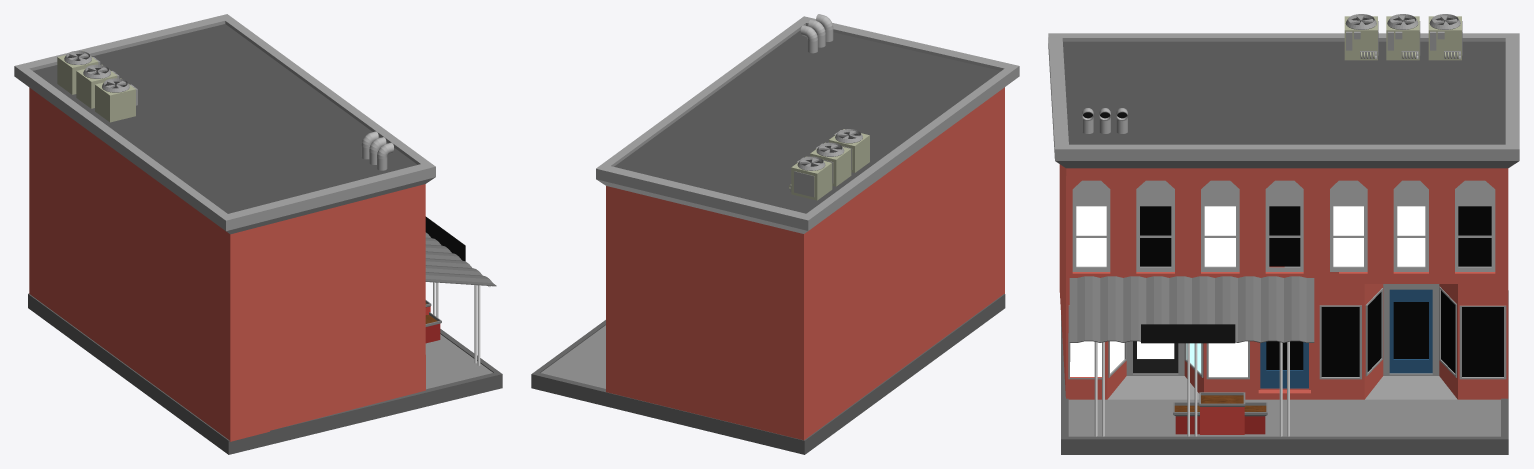
The model's file is store.glb.
3 views of the same model, side by side, from view 1: azimuth 30°, elevation 25°; view 2: azimuth 150°, elevation 25°; view 3: azimuth 270°, elevation 25° (orthographic). The views are drawn at different scales.
Parts seen in each view (by area): view 1: Cube, Cube.001, Plane, Plane.001, Cube.005, Cube.003, Cube.004, Cylinder.004, Plane.002, Cylinder.002, Cube.002; view 2: Cube, Cube.001, Plane, Cube.003, Cube.004, Cube.005, Cylinder.004; view 3: Cube, Plane.001, Plane, Cube.001, Cube.002, Plane.002, Cube.004, Cube.003, Cube.005, Cylinder.004, Cylinder.001, Cylinder.002 (+1 smaller).
Part boxes in pixels (x1,y1,x2,y2): Cube: (14,14,435,441); Cube.001: (28,293,502,454); Plane: (425,334,492,389); Plane.001: (425,232,496,286); Cube.005: (95,78,137,122); Cube.003: (57,50,100,94); Cube.004: (76,64,119,108); Cylinder.004: (361,131,393,170); Plane.002: (425,216,465,261); Cylinder.002: (474,285,480,365); Cube.002: (425,300,441,343); Cube: (596,16,1019,440); Cube.001: (531,294,1005,454); Plane: (541,325,605,388); Cube.003: (789,156,832,200); Cube.004: (810,142,851,186); Cube.005: (829,129,869,172); Cylinder.004: (800,14,833,53); Cube: (1048,33,1519,399); Plane.001: (1069,276,1314,342); Plane: (1068,399,1500,436); Cube.001: (1061,290,1508,454); Cube.002: (1173,392,1267,434); Plane.002: (1141,324,1235,343); Cube.004: (1386,14,1420,60); Cube.003: (1428,14,1462,60); Cube.005: (1344,14,1378,60); Cylinder.004: (1082,108,1127,133); Cylinder.001: (1279,341,1289,436); Cylinder.002: (1094,342,1104,436).
Bounding box in the file's own units: 22.78 × 20.64 × 29.56.
